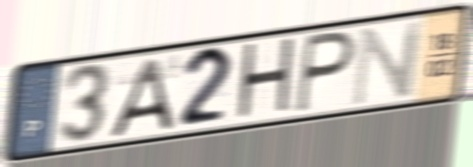2: (173, 44, 240, 135)
3: (57, 61, 113, 148)
A: (106, 54, 177, 141)
H: (233, 34, 298, 126)
N: (349, 17, 426, 109)
P: (292, 28, 359, 116)
